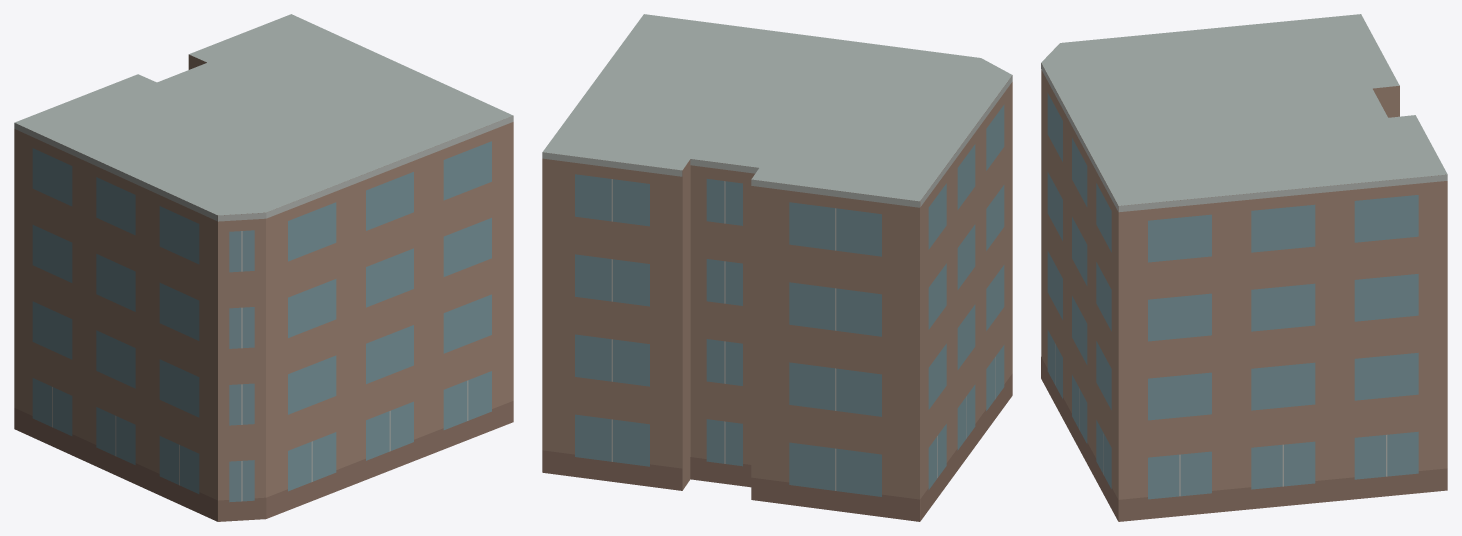
The model's file is survey-upis-32686932.glb.
3 views of the same model, side by side, from view 1: azimuth 30°, elevation 25°; view 2: azimuth 150°, elevation 25°; view 3: azimuth 270°, elevation 25° (orthographic). The views are drawn at different scales.
Parts seen in each view (by area): view 1: survey-upis-32686932.tmp; view 2: survey-upis-32686932.tmp; view 3: survey-upis-32686932.tmp.
Part boxes in pixels (x1,y1,x2,y2): survey-upis-32686932.tmp: (14,14,513,521); survey-upis-32686932.tmp: (542,14,1012,521); survey-upis-32686932.tmp: (1041,14,1447,521).
Bounding box in the file's own units: 16.04 × 12.3 × 14.36.
